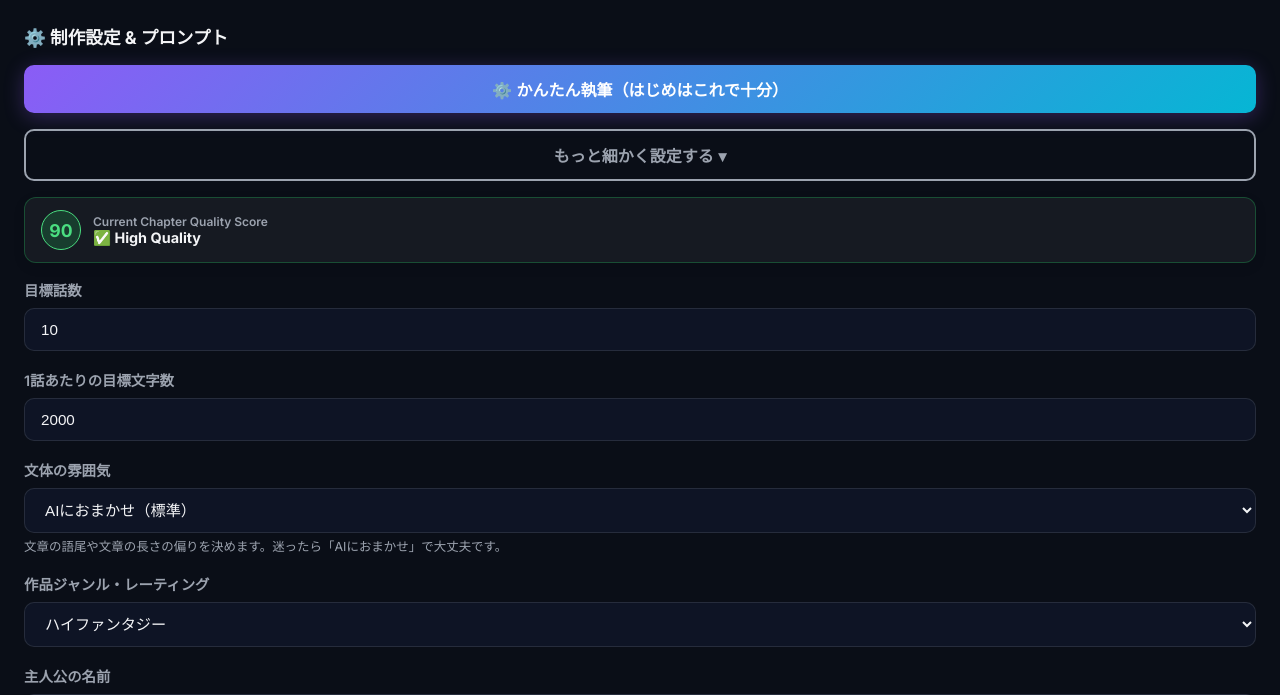
Test: S3: ORCHESTRA モードへ到達できる › 上級モードを展開すると ORCHESTRA ボタンが出現する
Click the button with test id "btn-show-advanced-modes" at (640, 155), box [24,129,1256,181]
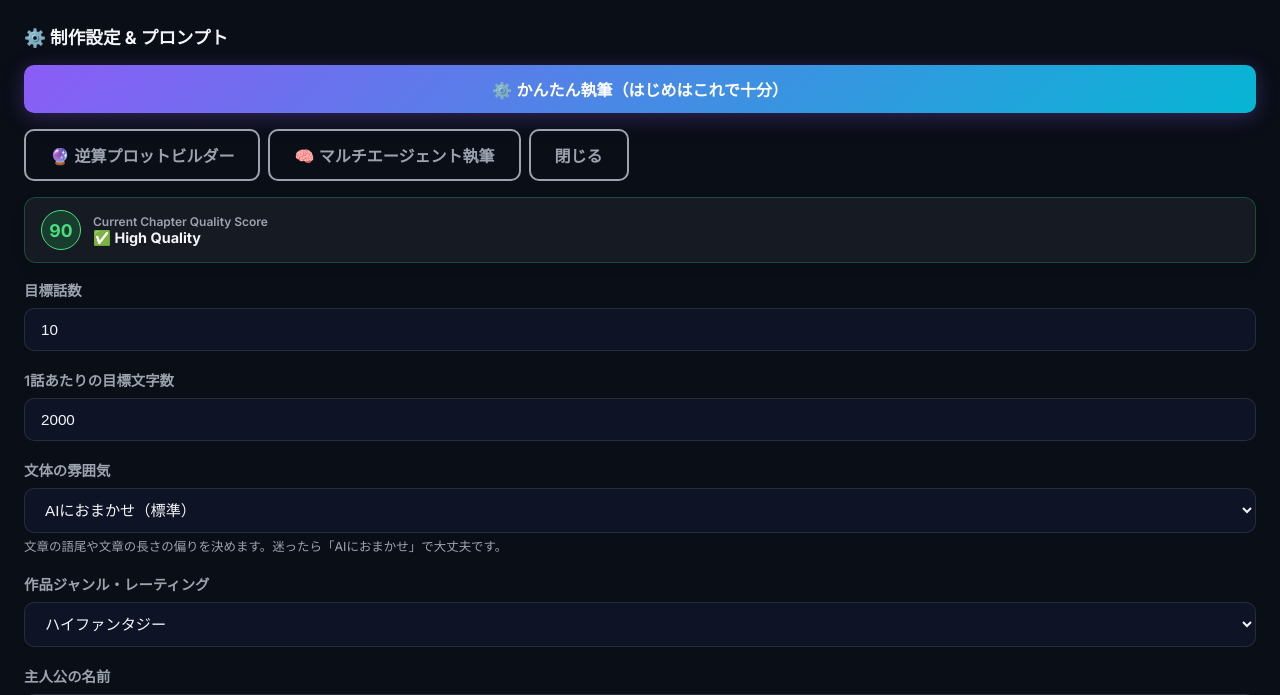
Check: the button "🧠 マルチエージェント執筆" is shown, box [268,129,520,181]
